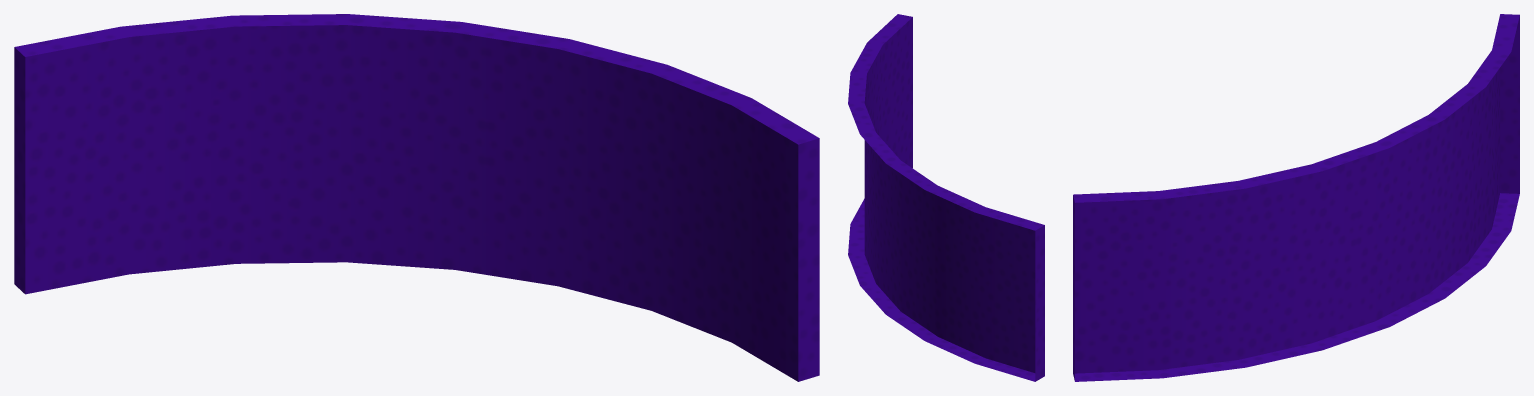
File: WallPanel_1_Rounded_1stCol.fbx
3 views of the same model, side by side, from view 1: azimuth 30°, elevation 25°; view 2: azimuth 150°, elevation 25°; view 3: azimuth 270°, elevation 25° (orthographic). The views are drawn at different scales.
Parts seen in each view (by area): view 1: WallPanel_1_Rounded_1stCol_LOD0; view 2: WallPanel_1_Rounded_1stCol_LOD0; view 3: WallPanel_1_Rounded_1stCol_LOD0.
Boxes of the visible parts, x1,y1,x2,y2 form: WallPanel_1_Rounded_1stCol_LOD0: [14, 14, 819, 381]; WallPanel_1_Rounded_1stCol_LOD0: [848, 14, 1044, 381]; WallPanel_1_Rounded_1stCol_LOD0: [1073, 14, 1519, 381].
Size of the model in its own units: 181 by 80.05 by 181.
